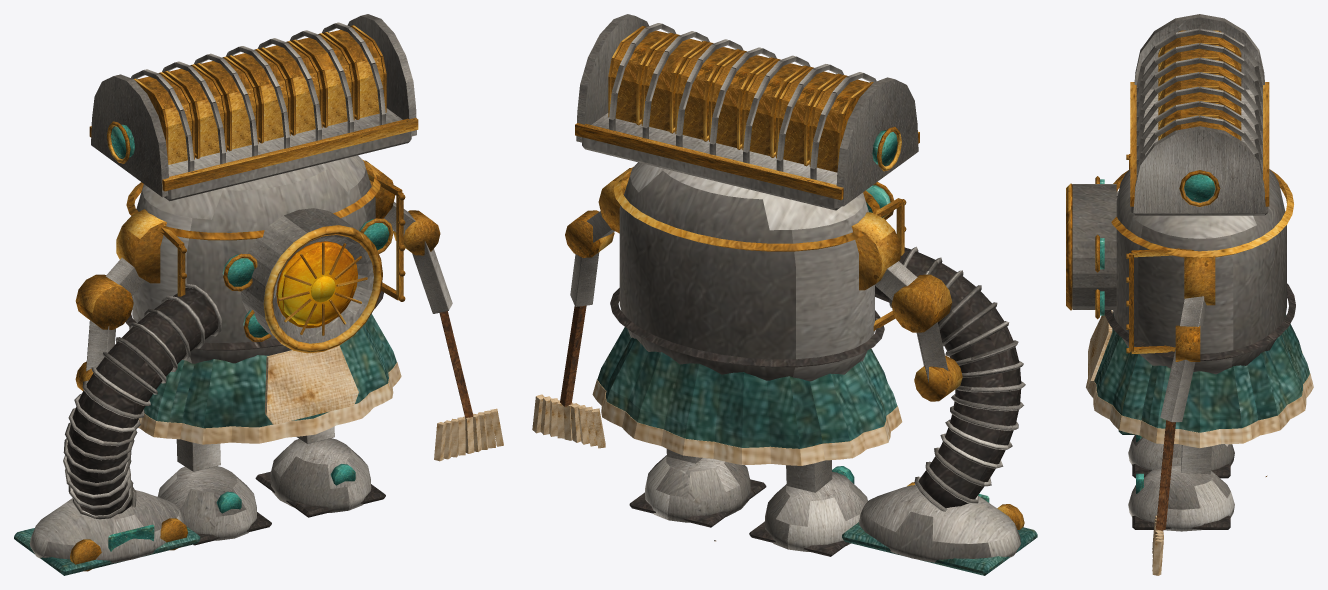
The model's file is homemaker-9000.glb.
The picture shows the model from 3 angles, left to right: view 1: azimuth 30°, elevation 25°; view 2: azimuth 150°, elevation 25°; view 3: azimuth 270°, elevation 25°; orthographic projection. The views are drawn at different scales.
Visible parts, largest first — view 1: core, rack, vac; view 2: core, rack, vac; view 3: core, rack.
Part boxes in pixels (x1=…): core: x1=125, y1=155, x2=503, y2=545; rack: x1=89, y1=14, x2=418, y2=201; vac: x1=14, y1=209, x2=221, y2=575; core: x1=532, y1=162, x2=906, y2=556; rack: x1=575, y1=14, x2=919, y2=210; vac: x1=842, y1=212, x2=1037, y2=575; core: x1=1066, y1=154, x2=1313, y2=575; rack: x1=1130, y1=14, x2=1269, y2=215.
Size of the model in its own units: 7.2 by 6.61 by 3.58.
1 material, 1 textured.
